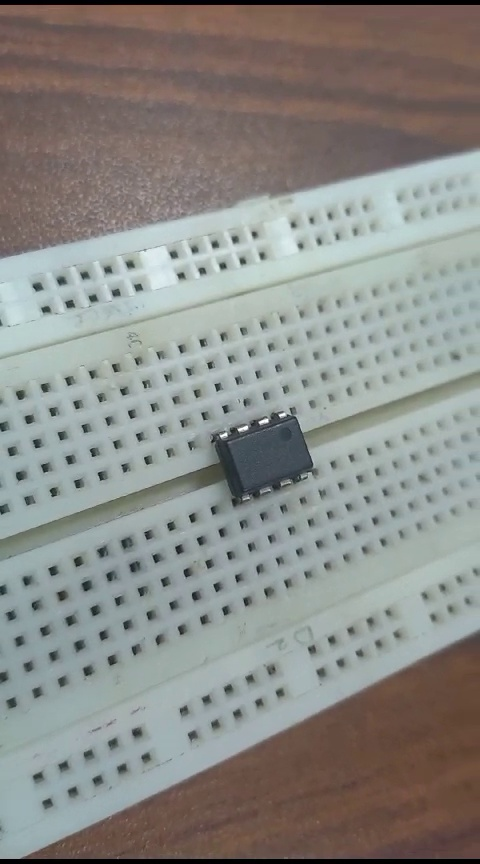IC: (200, 405, 330, 499)
